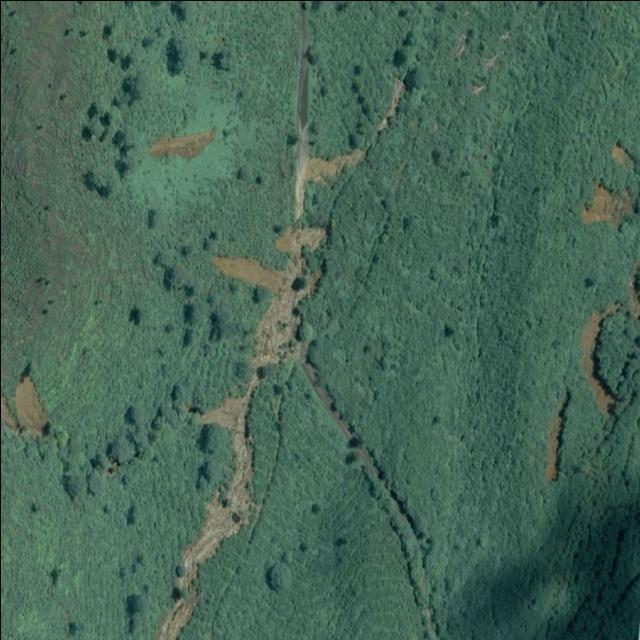landslide: (156, 1, 325, 640), (581, 303, 621, 418), (0, 373, 47, 436), (545, 392, 571, 481), (304, 148, 365, 182)
